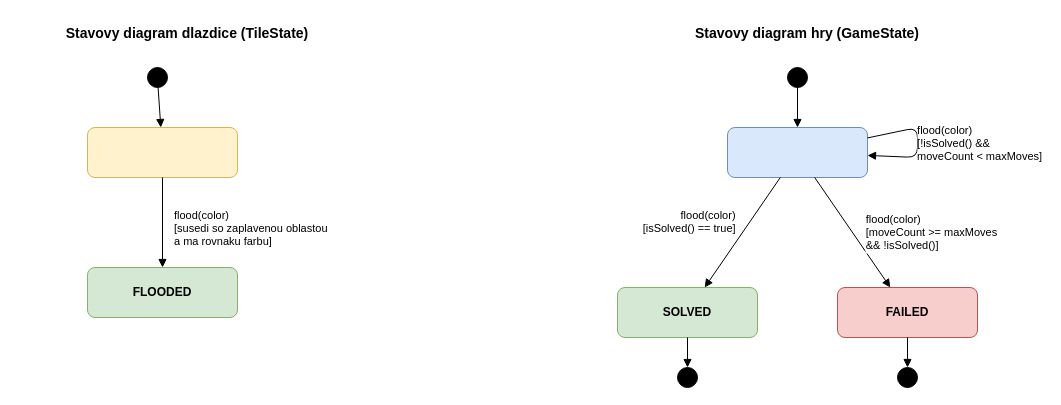
Some shapes in this 1061 by 405 pixel diagram are drawn without their labels. The box of each missing label's shape, as (x1, y1, x2, y2) in pixels:
NOT_FLOODED: (86, 126, 238, 178)
PLAYING: (726, 126, 868, 178)
